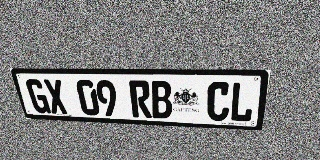0: (75, 80, 100, 116)
9: (95, 80, 119, 116)
B: (150, 81, 173, 119)
C: (207, 82, 231, 121)
G: (25, 79, 51, 114)
L: (229, 82, 256, 122)
R: (129, 80, 152, 118)
X: (42, 79, 69, 114)
